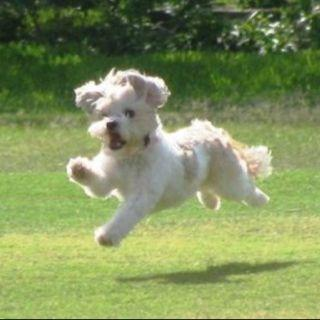adult_dog: (65, 67, 274, 248)
